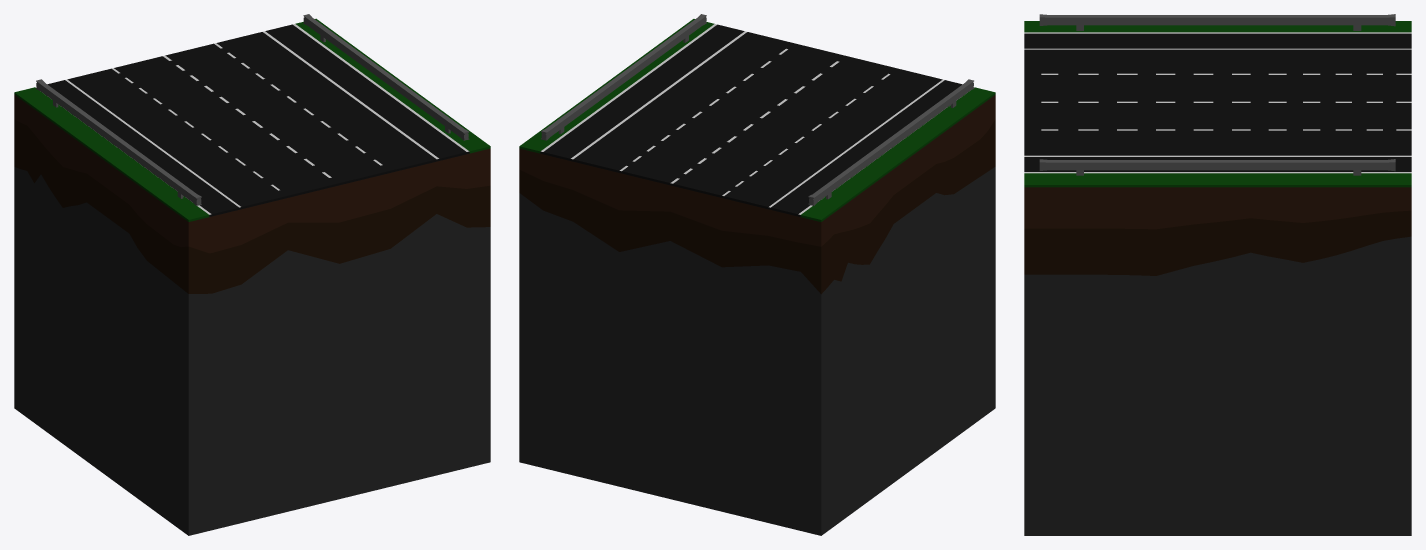
The model's file is Tile.fbx.
3 views of the same model, side by side, from view 1: azimuth 30°, elevation 25°; view 2: azimuth 150°, elevation 25°; view 3: azimuth 270°, elevation 25° (orthographic). The views are drawn at different scales.
Parts seen in each view (by area): view 1: Tile, Guard_Rails; view 2: Tile, Guard_Rails; view 3: Tile, Guard_Rails.
Boxes of the visible parts, box(x1,y1,x2,y2) form: Tile: box(14, 18, 490, 535); Guard_Rails: box(36, 14, 469, 205); Tile: box(519, 19, 995, 535); Guard_Rails: box(541, 14, 974, 205); Tile: box(1024, 21, 1411, 535); Guard_Rails: box(1039, 14, 1395, 175).
Size of the model in its own units: 2400 by 2502 by 2400.
